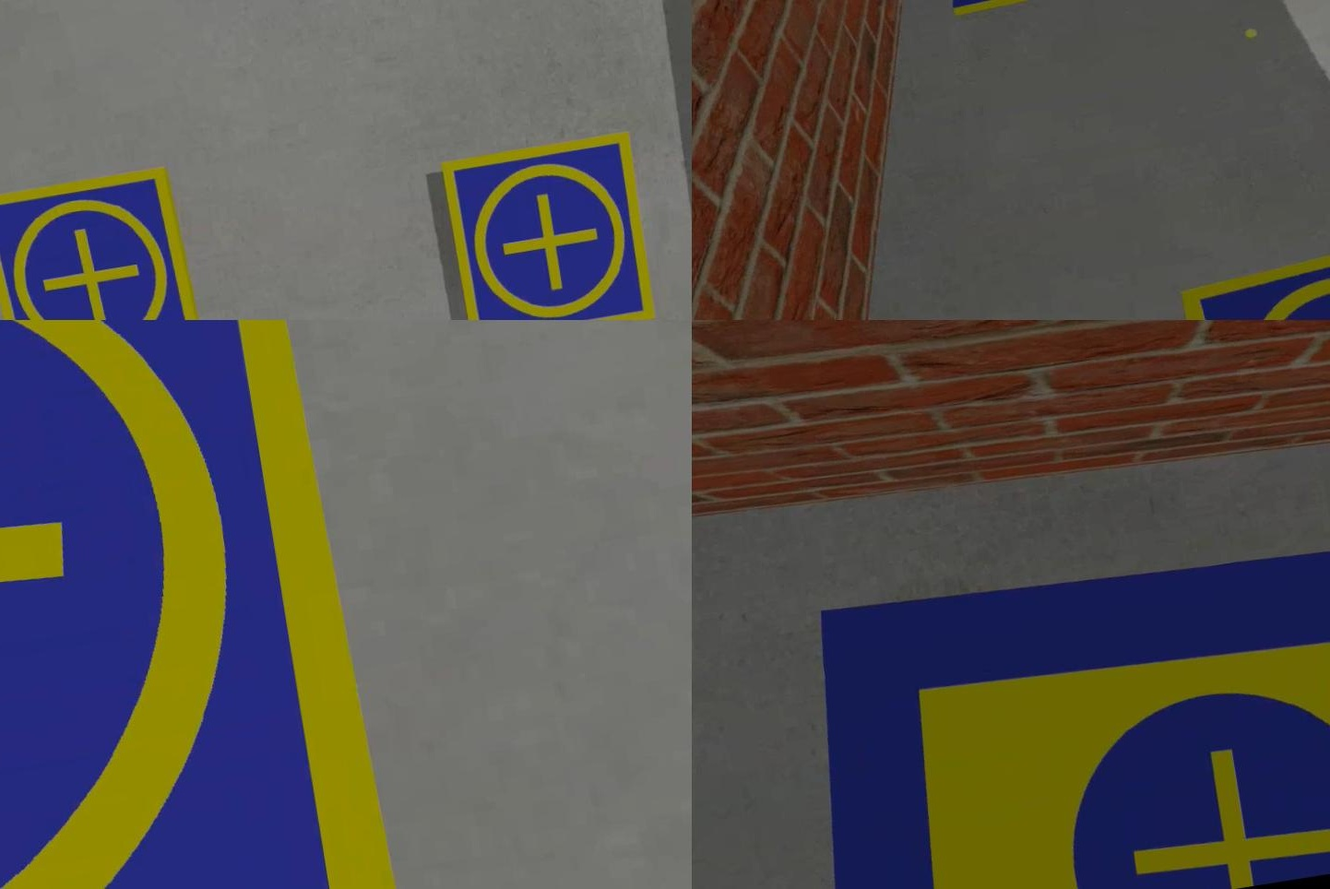large_base: (781, 484, 1328, 889)
small_base: (0, 321, 418, 889), (434, 126, 660, 321), (0, 160, 208, 321)
